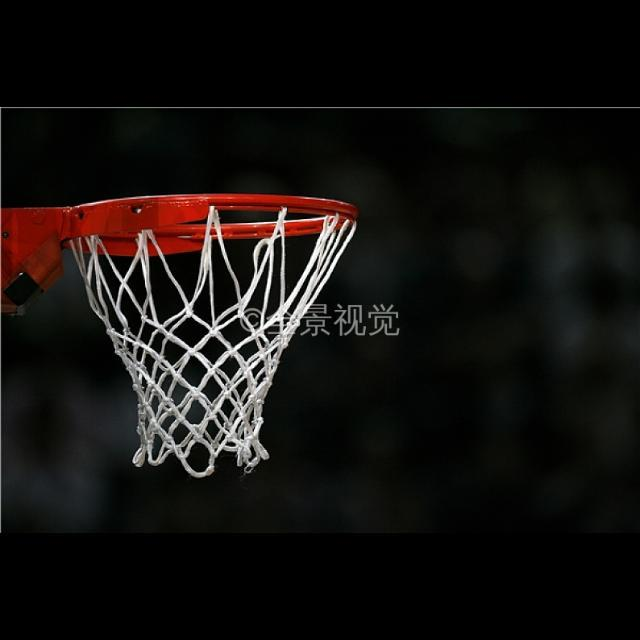rim: (66, 195, 356, 480)
